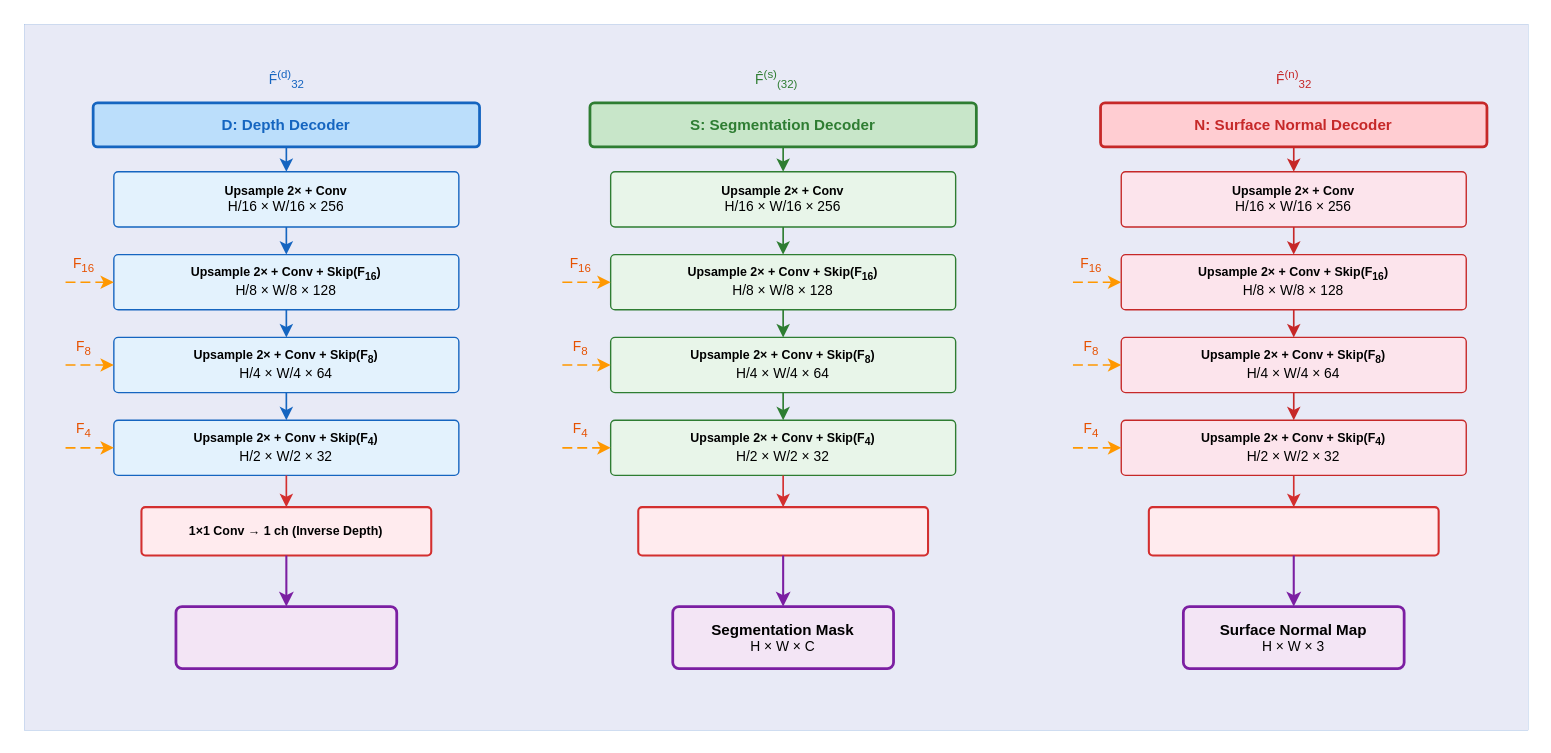
This 1551x753 diagram has some shape labels left out. The shapes that lost their labels are listed below. From the top down, each one's box as (x1, y1, x2, y2) in pixels, then its label:
(637, 505, 928, 556): 1×1 Conv → C ch + Softmax
(1147, 505, 1439, 556): 1×1 Conv → 3 ch + L₂ Norm
(174, 604, 397, 669): Depth Map H × W × 1
